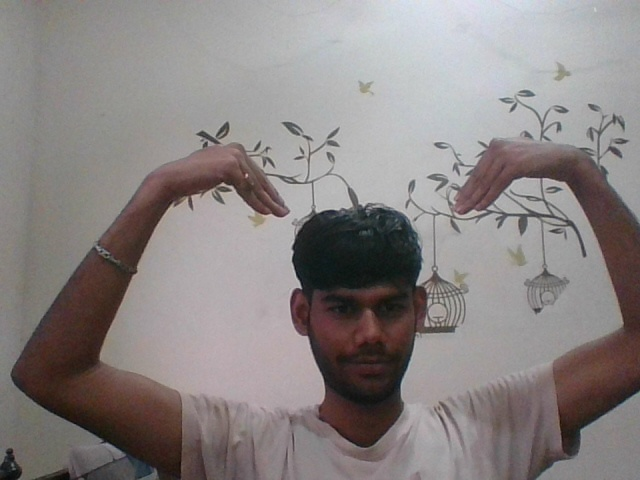I am Utkarsh: (171, 96, 574, 256)
